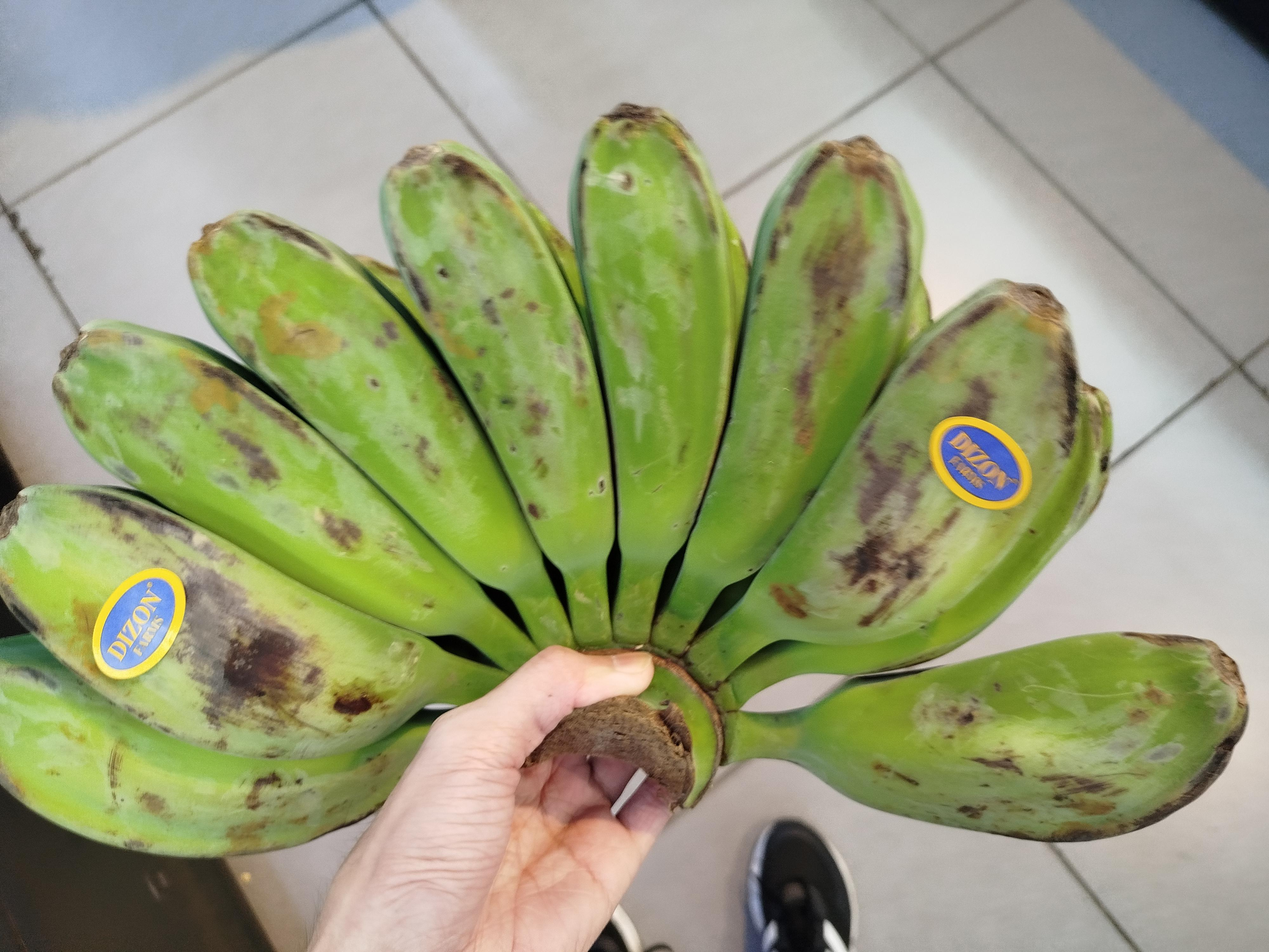underripe: (0, 104, 1247, 857)
